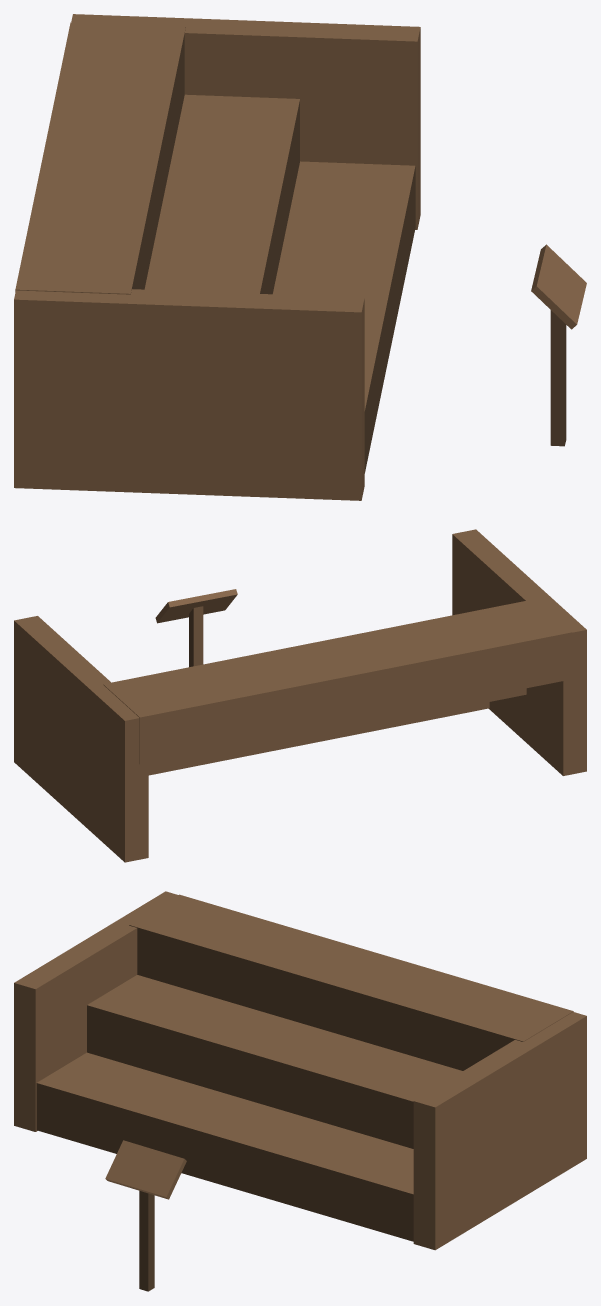
The model's file is ChoirStand.gltf.
3 renders of one model, top to bottom at view 1: azimuth 30°, elevation 25°; view 2: azimuth 150°, elevation 25°; view 3: azimuth 270°, elevation 25°, orthographic. The views are drawn at different scales.
Parts seen in each view (by area): view 1: Cube.047; view 2: Cube.047; view 3: Cube.047.
Boxes of the visible parts, x1,y1,x2,y2 form: Cube.047: [14, 14, 586, 500]; Cube.047: [14, 529, 586, 862]; Cube.047: [14, 891, 586, 1291].
Size of the model in its own units: 3.58 by 1.55 by 4.01.
1 material, 1 textured.
